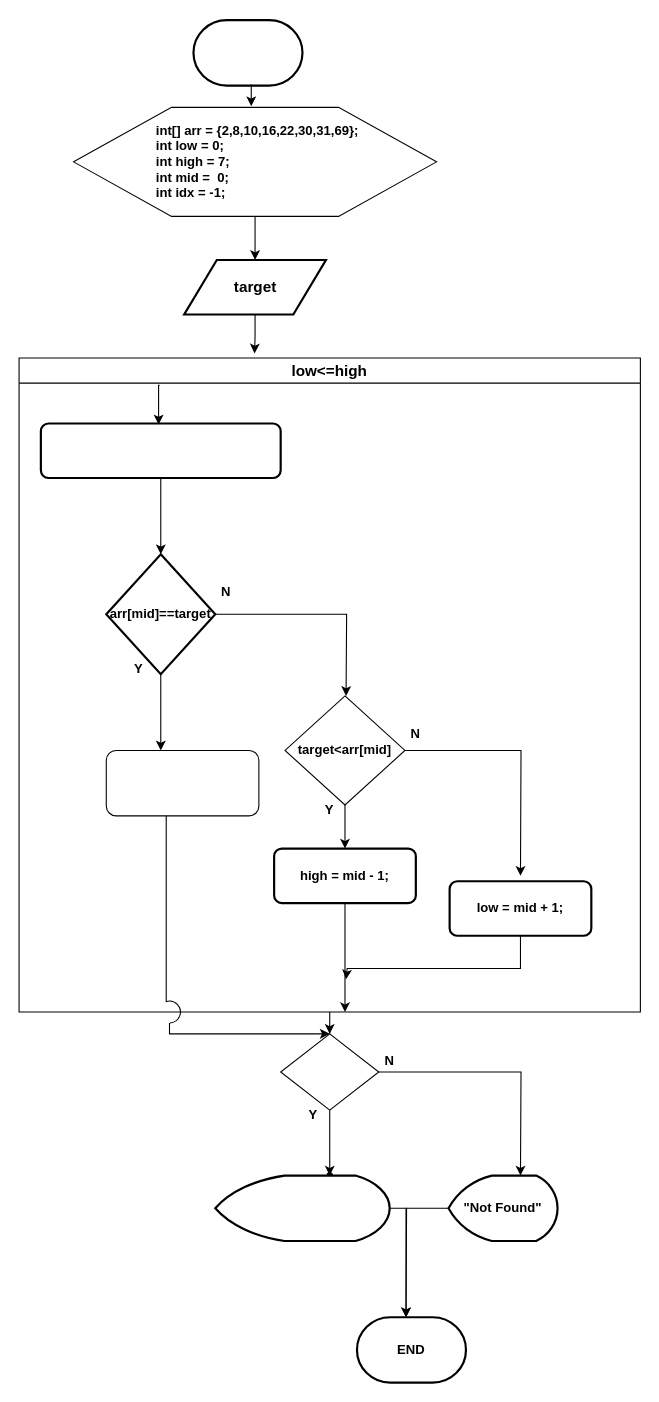
The diagram is 659 pixels wide and 1402 high, and some of its shapes have lost their labels. Here are the shapes that lost their labels. From the top down, the centre of each, then its label:
(x=247, y=52): START
(x=160, y=450): mid = (low+high)/2;
(x=182, y=782): break;
(x=329, y=1071): start<=end
(x=302, y=1208): "Target Index : " + idx
